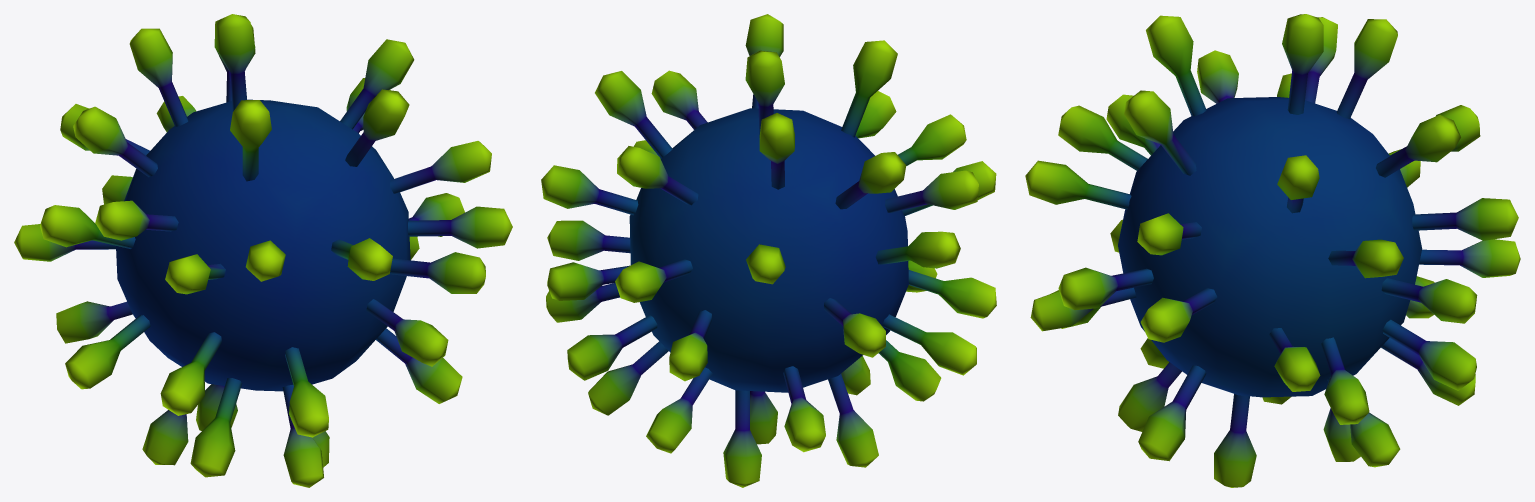
Rendered from microscopic-viruses-coronavirus_v8.fbx.
3 renders of one model, left to right at view 1: azimuth 30°, elevation 25°; view 2: azimuth 150°, elevation 25°; view 3: azimuth 270°, elevation 25°, orthographic. The views are drawn at different scales.
Parts seen in each view (by area): view 1: Coronavirus_v8; view 2: Coronavirus_v8; view 3: Coronavirus_v8.
Boxes of the visible parts, x1,y1,x2,y2 form: Coronavirus_v8: (14, 14, 512, 487); Coronavirus_v8: (541, 14, 996, 487); Coronavirus_v8: (1025, 14, 1520, 487).
Size of the model in its own units: 0.1191 by 0.12 by 0.119.
